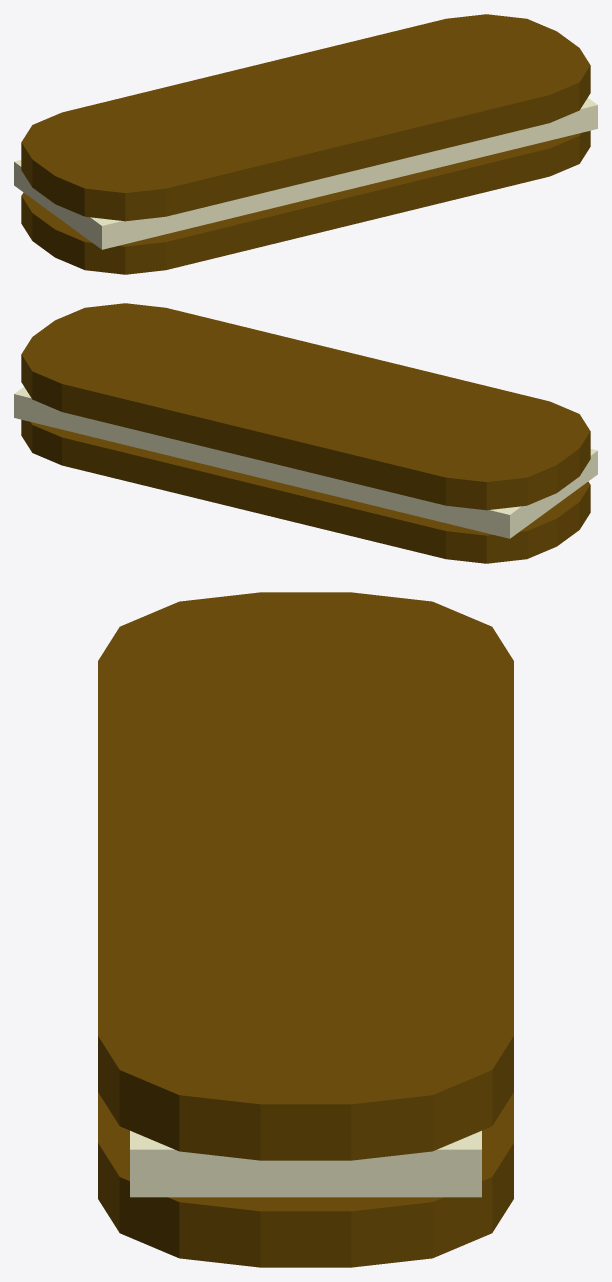
The model's file is IceCreamSandwich.fbx.
3 renders of one model, top to bottom at view 1: azimuth 30°, elevation 25°; view 2: azimuth 150°, elevation 25°; view 3: azimuth 270°, elevation 25°, orthographic. The views are drawn at different scales.
Parts seen in each view (by area): view 1: IceCreamSandwich; view 2: IceCreamSandwich; view 3: IceCreamSandwich.
Part boxes in pixels (x1=…): IceCreamSandwich: x1=14, y1=14, x2=597, y2=274; IceCreamSandwich: x1=14, y1=303, x2=597, y2=563; IceCreamSandwich: x1=98, y1=592, x2=513, y2=1267.
Size of the model in its own units: 11.65 by 1.73 by 4.
